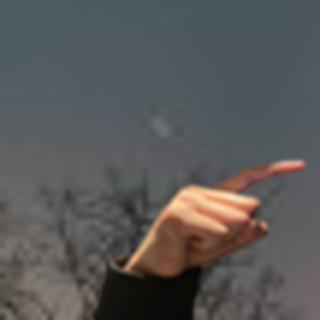WHY: (122, 146, 312, 277)
